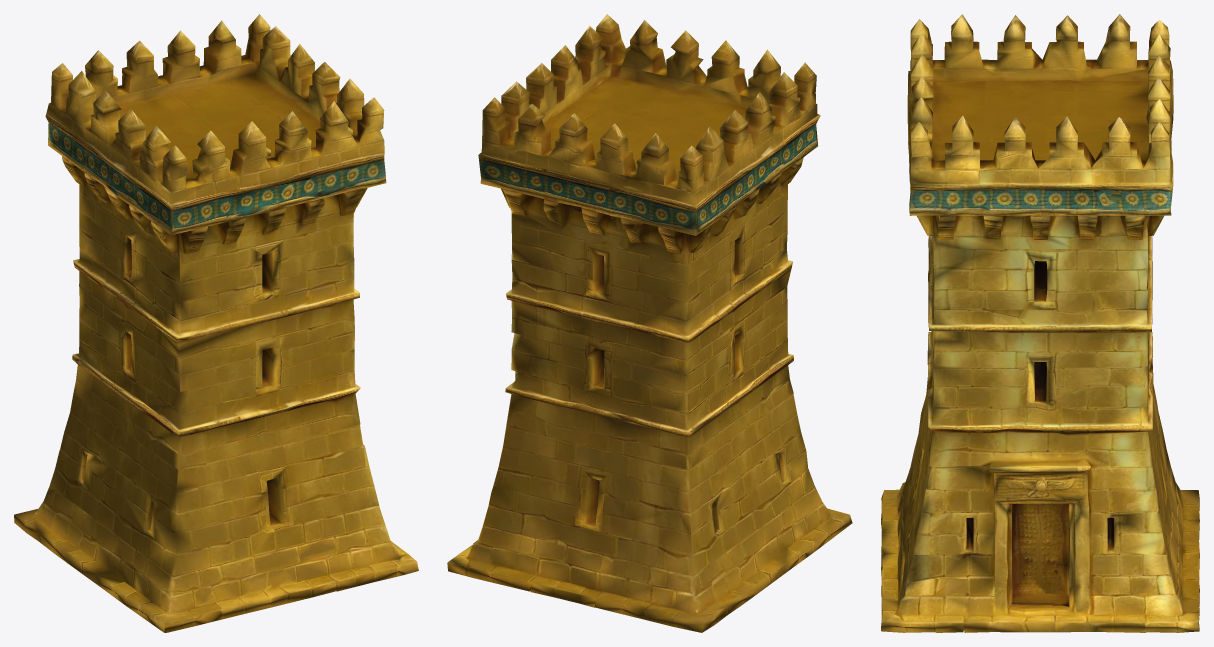
Rendered from castle_tower_medium_gold.glb.
3 views of the same model, side by side, from view 1: azimuth 30°, elevation 25°; view 2: azimuth 150°, elevation 25°; view 3: azimuth 270°, elevation 25° (orthographic). The views are drawn at different scales.
Parts seen in each view (by area): view 1: tripo_node_25803293-13b0-449f-b9ed-82eb2ad4be2f; view 2: tripo_node_25803293-13b0-449f-b9ed-82eb2ad4be2f; view 3: tripo_node_25803293-13b0-449f-b9ed-82eb2ad4be2f.
Boxes of the visible parts, x1,y1,x2,y2 form: tripo_node_25803293-13b0-449f-b9ed-82eb2ad4be2f: [14, 14, 418, 632]; tripo_node_25803293-13b0-449f-b9ed-82eb2ad4be2f: [447, 14, 852, 632]; tripo_node_25803293-13b0-449f-b9ed-82eb2ad4be2f: [881, 14, 1199, 632].
Size of the model in its own units: 0.5546 by 0.9792 by 0.5633.
1 material, 1 textured.
